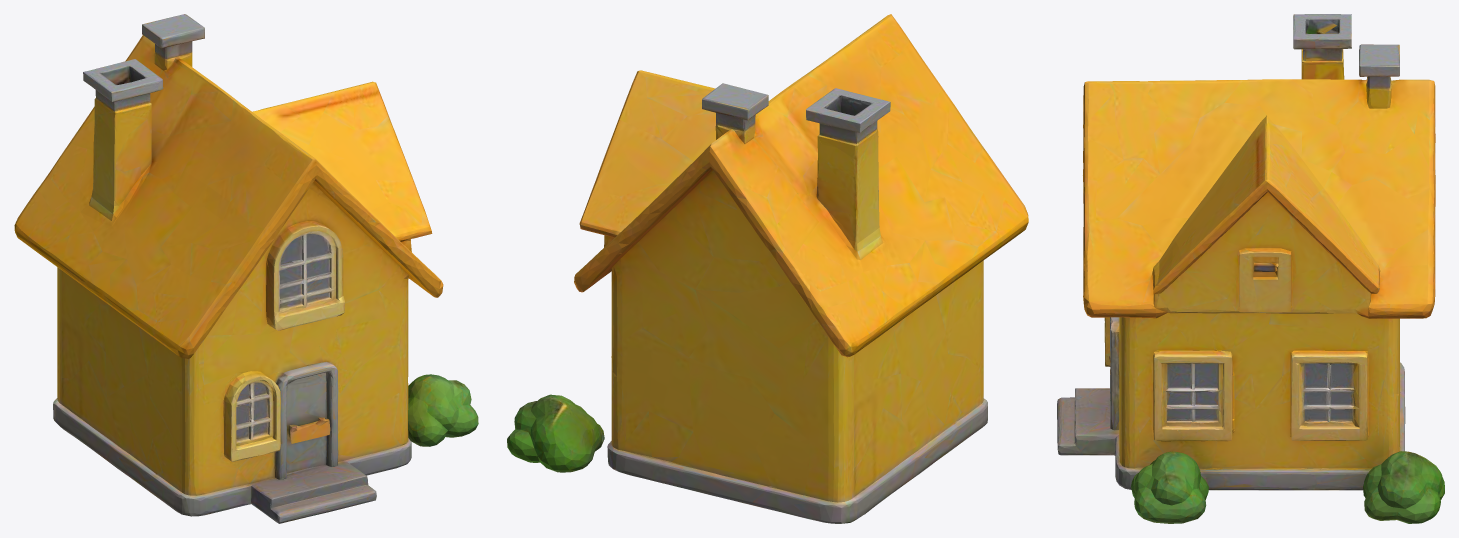
File: house_a.glb
3 renders of one model, left to right at view 1: azimuth 30°, elevation 25°; view 2: azimuth 150°, elevation 25°; view 3: azimuth 270°, elevation 25°, orthographic. The views are drawn at different scales.
Visible parts, largest first — view 1: temp; view 2: temp; view 3: temp.
Part boxes in pixels (x1=…): temp: x1=14, y1=14, x2=478, y2=523; temp: x1=507, y1=14, x2=1028, y2=523; temp: x1=1057, y1=14, x2=1444, y2=523.
Size of the model in its own units: 1.87 by 2 by 1.86.
1 material, 1 textured.
